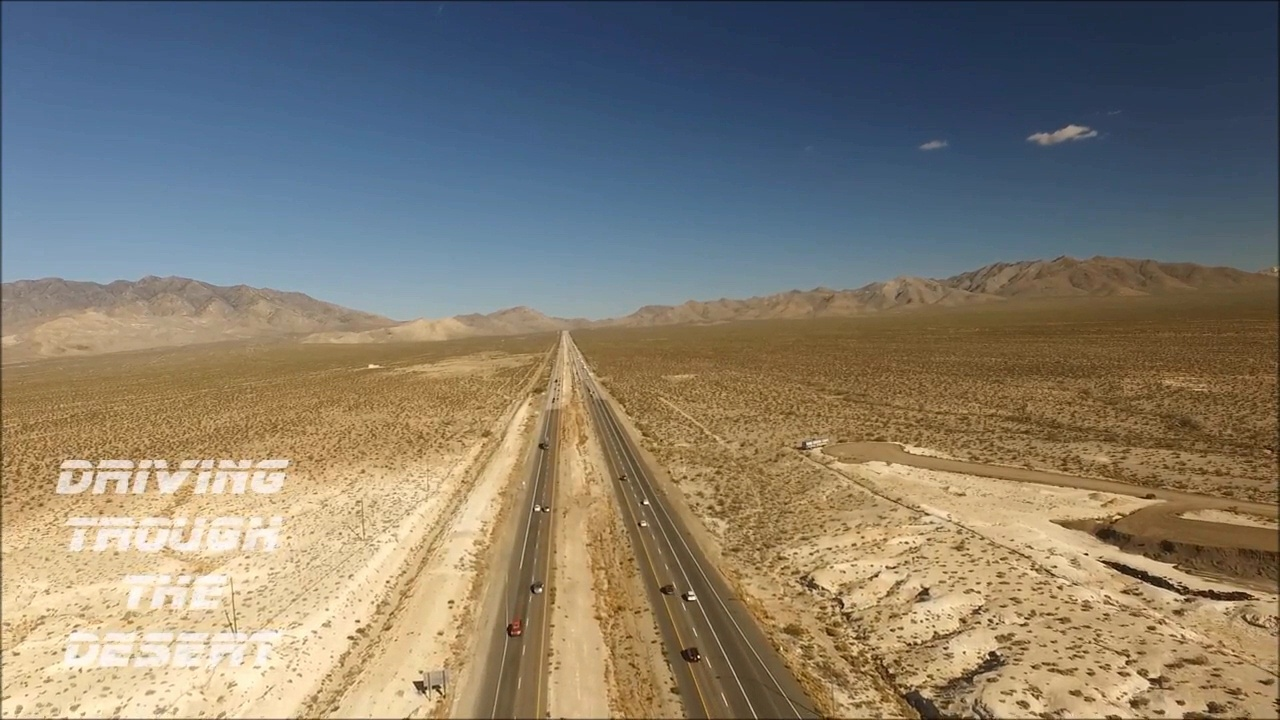araba: (685, 646, 700, 663), (529, 580, 544, 595), (508, 619, 521, 636), (682, 590, 698, 603)
